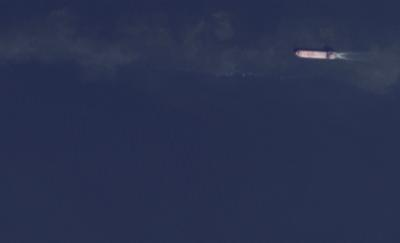Ships: (293, 39, 351, 66)
